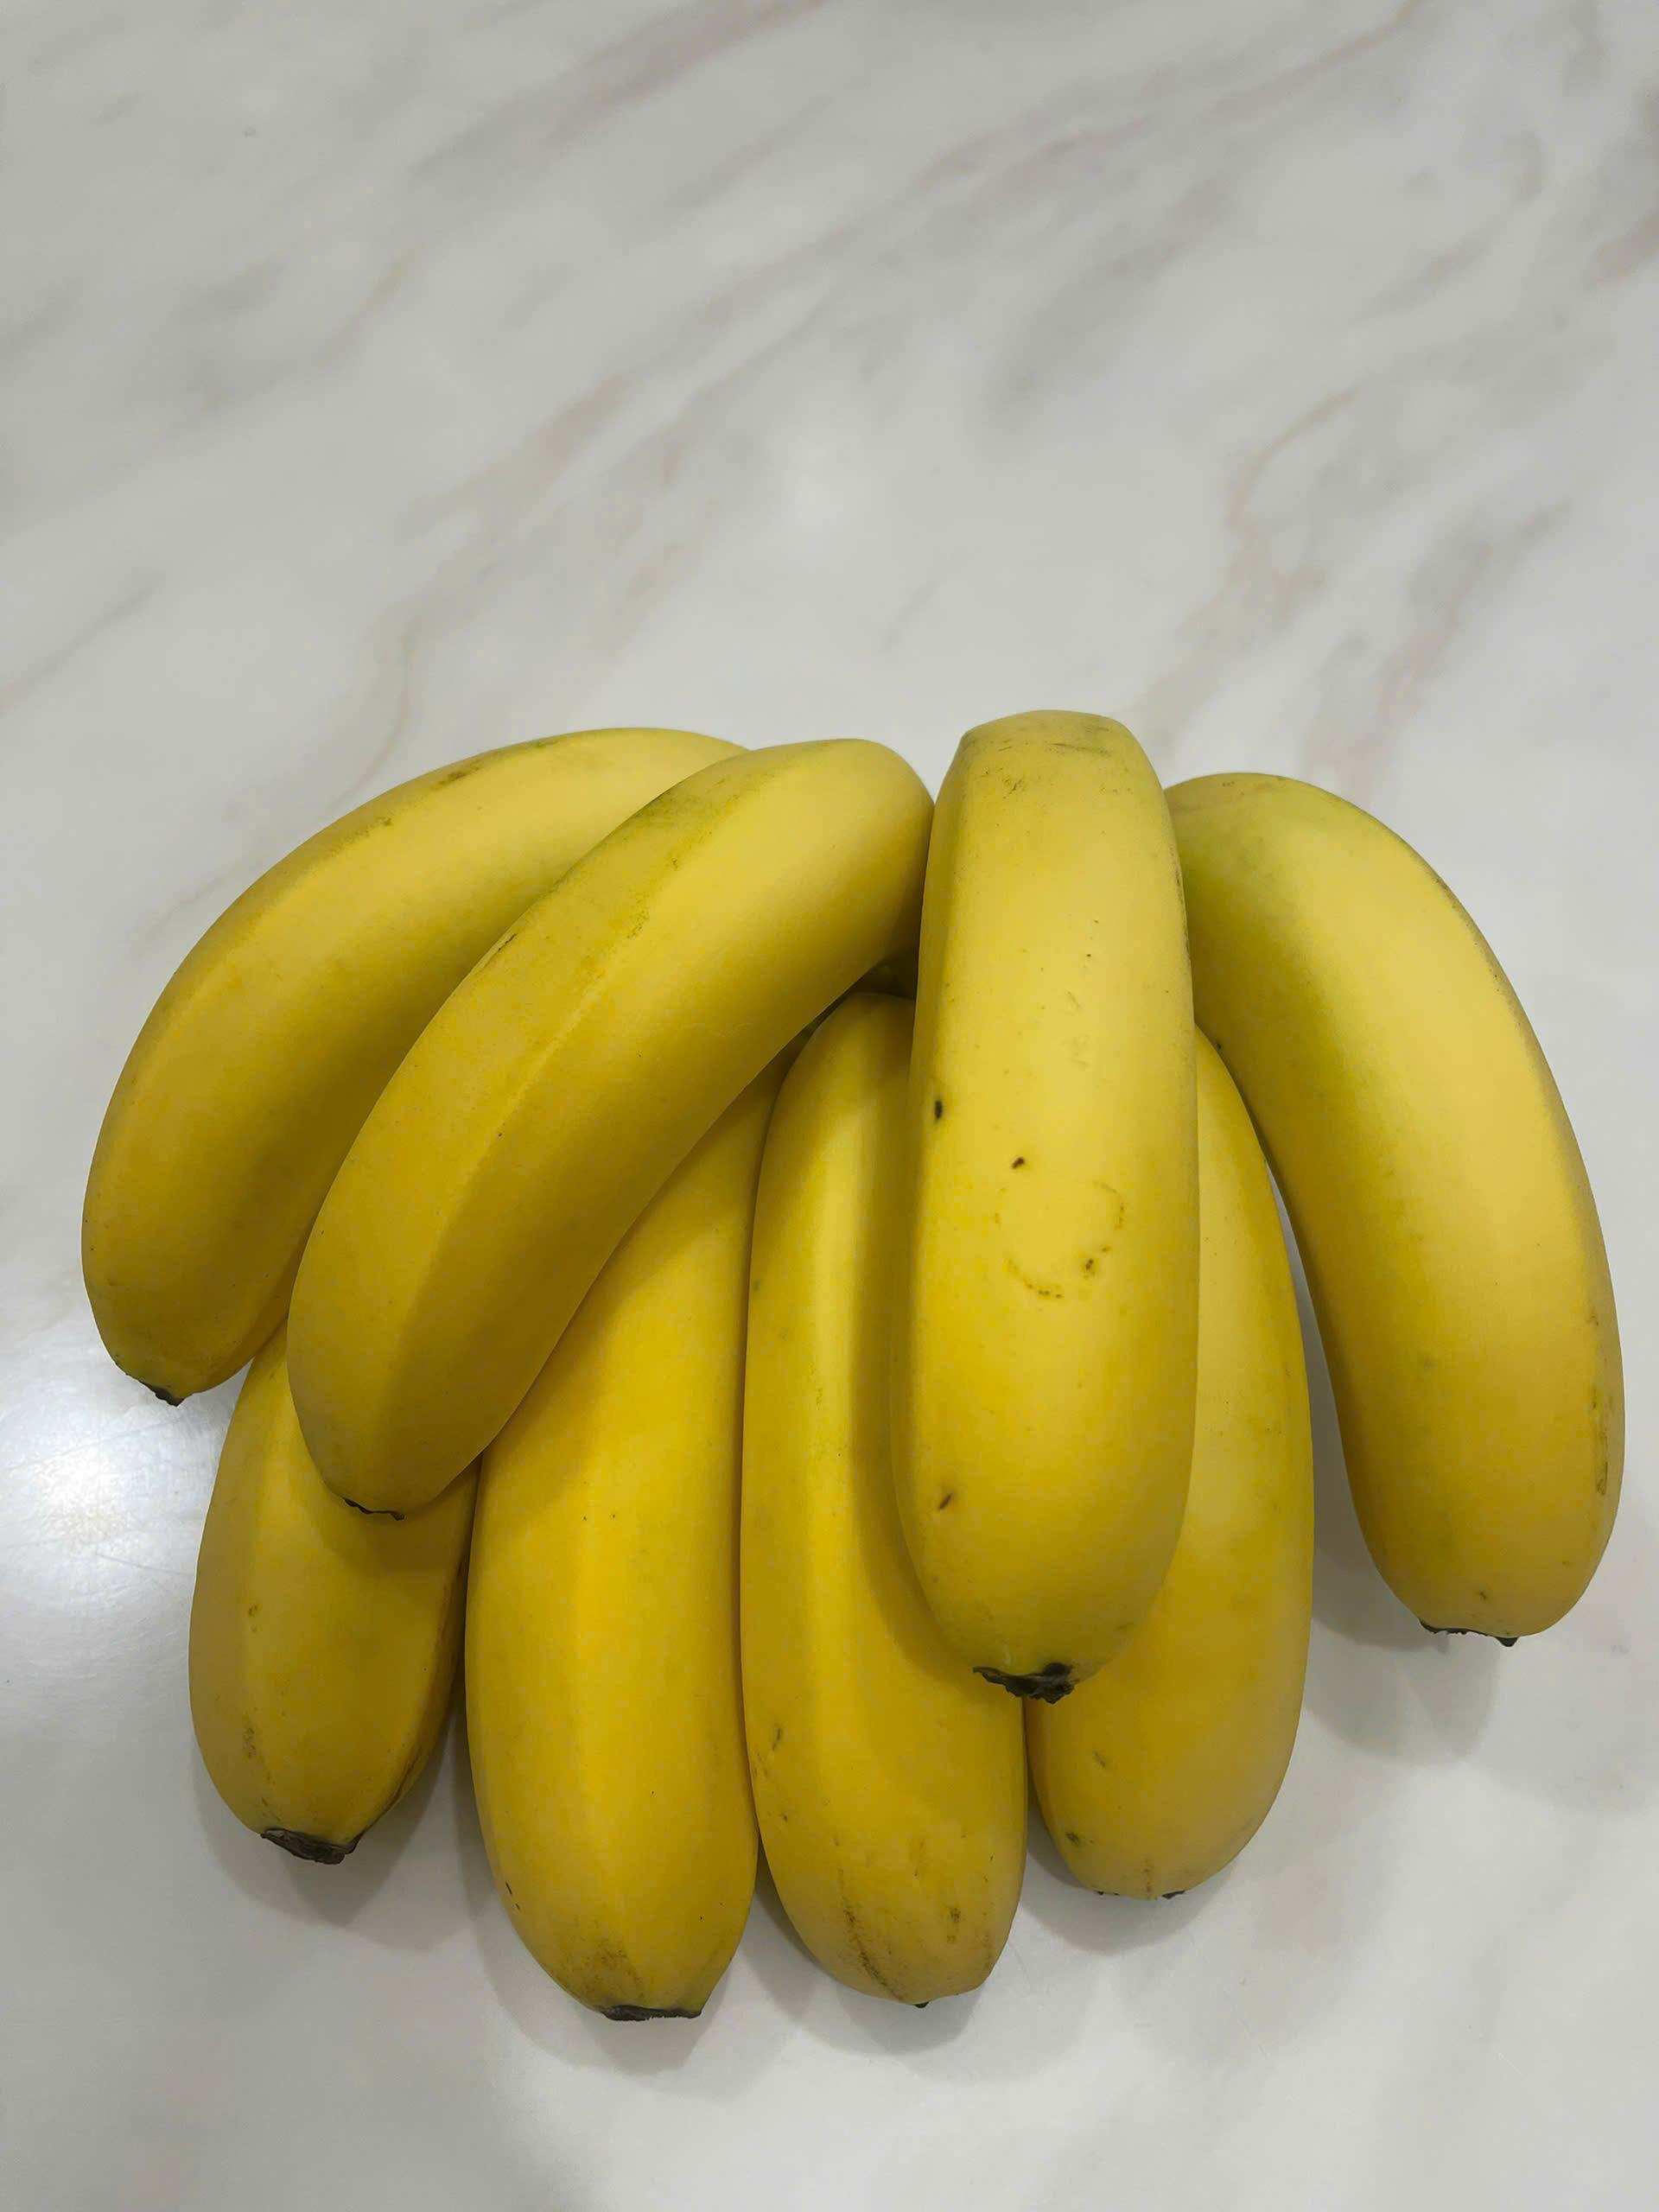banana: (30, 625, 1638, 2080), (54, 691, 925, 1515), (1164, 732, 1622, 1674), (864, 683, 1236, 1707)
